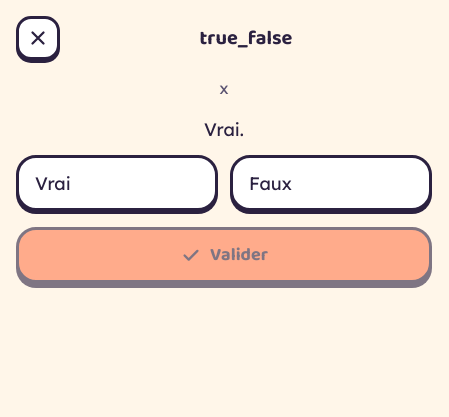
GameScreen, the right answer after a wrong one › a right answer shows nothing more than the mascot's joy
The image size is (449, 417).
Click the button "Vrai".
click(117, 183)  # box [16, 155, 218, 211]
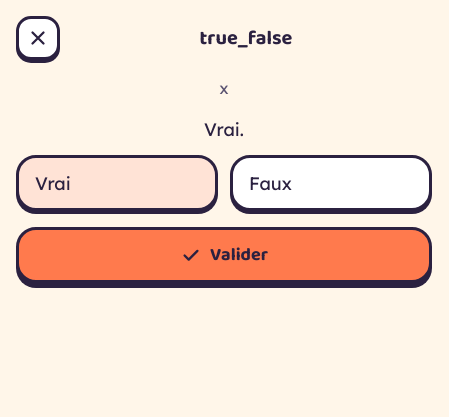
Click the button "Valider".
click(224, 255)  # box [16, 227, 432, 283]
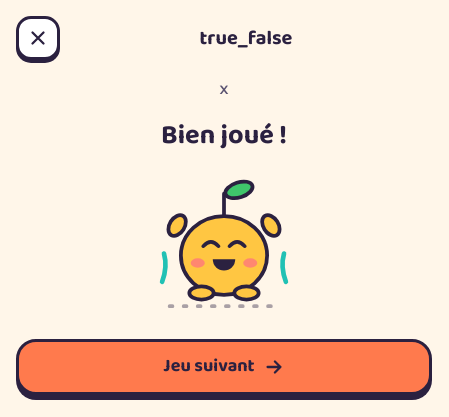
Now the text "Bien joué !" is shown, box [161, 116, 287, 156]
